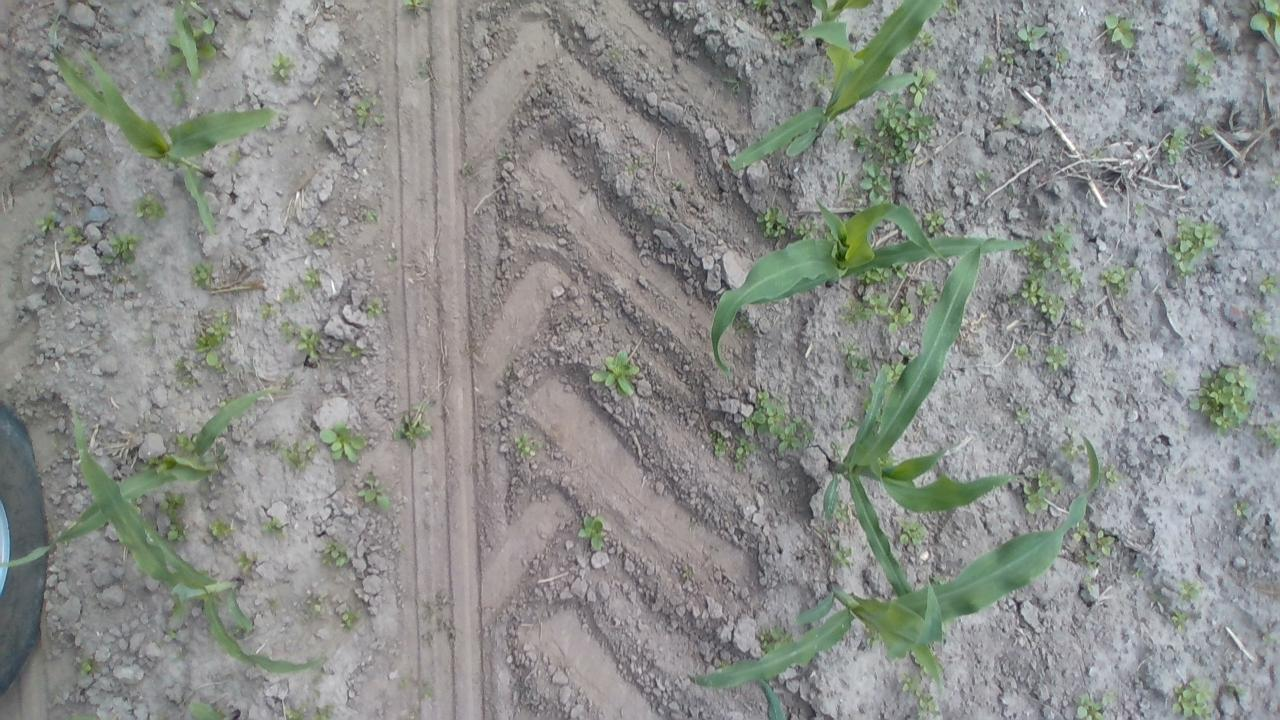Maize: (685, 423, 1101, 688), (821, 238, 1025, 600), (67, 408, 327, 678), (708, 199, 1028, 374), (43, 11, 284, 238), (0, 388, 295, 568), (723, 0, 944, 171), (716, 658, 834, 720), (69, 698, 242, 720), (172, 0, 208, 88), (808, 0, 874, 47)
Weeds: (1189, 364, 1255, 437), (741, 390, 814, 454), (872, 88, 936, 146), (1164, 216, 1222, 277), (850, 122, 919, 166), (862, 364, 906, 432), (1042, 222, 1084, 291), (1021, 267, 1065, 325), (168, 17, 216, 67), (193, 311, 231, 373), (851, 159, 894, 213), (592, 350, 639, 397), (318, 422, 368, 463), (392, 402, 432, 450), (1172, 677, 1216, 720), (1023, 467, 1061, 514), (1248, 0, 1280, 55), (158, 490, 188, 542), (1182, 48, 1218, 91), (840, 293, 888, 324), (356, 472, 392, 512), (1072, 689, 1115, 720), (856, 257, 906, 283), (102, 233, 143, 264), (756, 623, 794, 656), (1104, 12, 1136, 51), (1100, 264, 1134, 298), (576, 516, 606, 552), (756, 206, 788, 239), (909, 66, 936, 105), (134, 193, 170, 222), (842, 341, 869, 379), (1016, 240, 1052, 268), (1162, 129, 1189, 165), (886, 299, 914, 332), (321, 538, 350, 568), (273, 439, 302, 469), (913, 644, 942, 674), (1016, 23, 1046, 51), (294, 327, 320, 359), (514, 432, 544, 459), (734, 434, 756, 470), (357, 96, 382, 127), (270, 51, 294, 82), (898, 518, 925, 545), (914, 690, 940, 718), (1255, 334, 1280, 362), (172, 356, 194, 387), (1090, 530, 1116, 556), (1100, 463, 1124, 490), (1044, 344, 1068, 371), (1255, 421, 1280, 446), (1060, 436, 1084, 462), (190, 261, 214, 287), (911, 26, 934, 53), (914, 282, 939, 306), (792, 218, 819, 240), (206, 518, 232, 540), (994, 109, 1020, 130), (773, 28, 800, 48), (924, 208, 944, 234), (1257, 273, 1280, 295), (864, 624, 885, 648), (710, 432, 729, 458), (832, 547, 854, 569), (832, 502, 854, 524), (1248, 308, 1270, 330), (339, 606, 361, 628), (812, 70, 834, 92), (1178, 580, 1202, 600), (169, 79, 186, 107), (300, 268, 321, 290), (175, 434, 198, 454), (280, 285, 304, 304), (1171, 610, 1190, 632), (732, 315, 752, 335), (260, 516, 282, 534), (978, 54, 996, 76), (1071, 520, 1090, 540), (36, 212, 56, 231), (899, 672, 919, 691), (64, 224, 83, 243), (1226, 680, 1246, 698), (236, 550, 252, 572), (366, 296, 382, 318), (308, 598, 324, 620), (284, 707, 310, 720), (137, 456, 161, 470), (833, 118, 848, 140), (976, 169, 990, 192), (79, 660, 99, 676), (280, 321, 294, 343), (342, 342, 361, 358), (1085, 552, 1100, 572), (314, 705, 334, 720), (722, 76, 742, 91), (744, 0, 774, 10), (877, 452, 898, 466), (1233, 500, 1250, 517), (1012, 343, 1030, 359), (130, 267, 148, 283), (127, 496, 142, 515), (308, 230, 325, 246), (225, 624, 242, 640), (1054, 46, 1069, 64), (1015, 406, 1030, 423), (304, 441, 319, 458), (897, 345, 915, 359), (228, 148, 242, 166), (402, 0, 430, 9), (154, 66, 173, 79), (1001, 47, 1014, 65), (1008, 292, 1022, 308), (1198, 124, 1214, 138), (258, 304, 272, 320), (382, 252, 396, 268), (1068, 318, 1086, 330), (215, 445, 228, 461), (946, 0, 959, 16), (841, 418, 858, 430), (830, 441, 842, 458), (836, 170, 848, 186), (364, 209, 378, 222), (216, 396, 234, 406), (941, 618, 952, 634), (167, 627, 180, 640), (458, 162, 472, 174), (175, 648, 187, 662), (267, 596, 279, 610), (1090, 148, 1106, 158), (931, 576, 948, 585), (1134, 200, 1144, 215), (1271, 172, 1280, 188), (1164, 372, 1176, 384), (650, 202, 660, 216), (681, 567, 692, 579), (1263, 634, 1275, 644), (284, 372, 294, 384), (816, 395, 829, 404), (1084, 574, 1094, 585), (624, 164, 635, 174), (417, 68, 428, 78), (610, 48, 620, 58), (214, 707, 226, 715), (1132, 569, 1142, 578), (421, 690, 431, 698), (147, 336, 156, 344), (112, 275, 121, 283), (156, 641, 164, 650), (498, 151, 506, 159), (674, 180, 681, 188), (313, 690, 320, 697), (155, 716, 167, 720)
